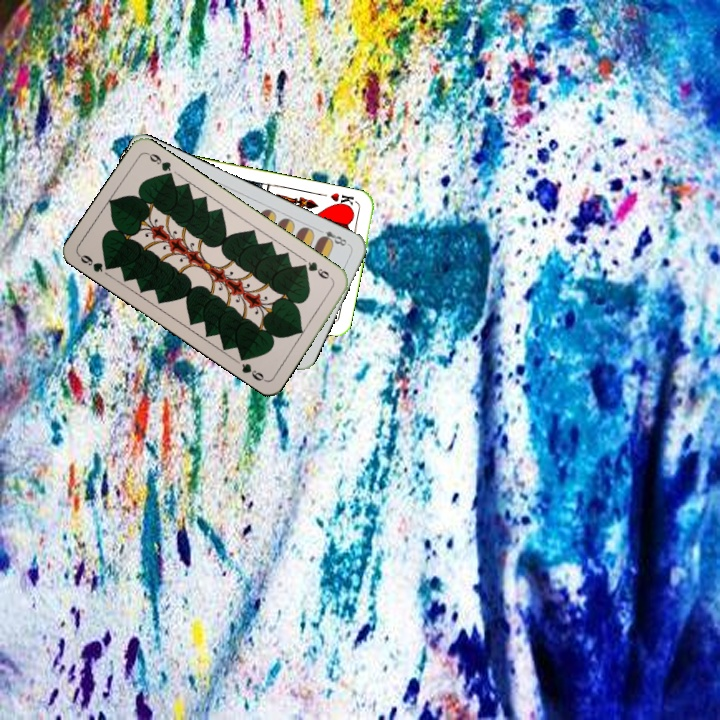E8: (314, 225, 352, 249)
G9: (75, 250, 115, 275), (297, 257, 335, 283)
HK: (326, 189, 357, 211)
